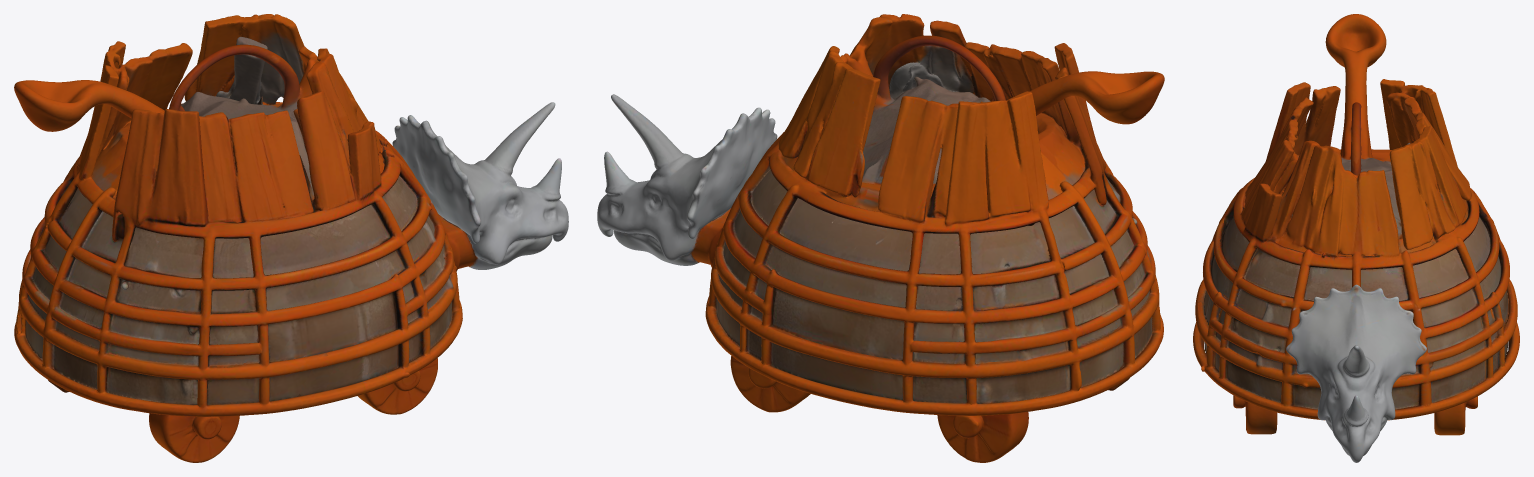
The picture shows the model from 3 angles, left to right: view 1: azimuth 30°, elevation 25°; view 2: azimuth 150°, elevation 25°; view 3: azimuth 270°, elevation 25°; orthographic projection. The views are drawn at different scales.
Parts seen in each view (by area): view 1: tripo_node_70dd7265-d68d-4961-88ee-5517819ee014; view 2: tripo_node_70dd7265-d68d-4961-88ee-5517819ee014; view 3: tripo_node_70dd7265-d68d-4961-88ee-5517819ee014.
Part boxes in pixels (<box>): tripo_node_70dd7265-d68d-4961-88ee-5517819ee014: <box>14,14,568,462</box>; tripo_node_70dd7265-d68d-4961-88ee-5517819ee014: <box>597,14,1164,462</box>; tripo_node_70dd7265-d68d-4961-88ee-5517819ee014: <box>1193,14,1519,462</box>.
Size of the model in its own units: 1 by 0.621 by 0.6292.
Materials: 1 (1 with a texture image).
